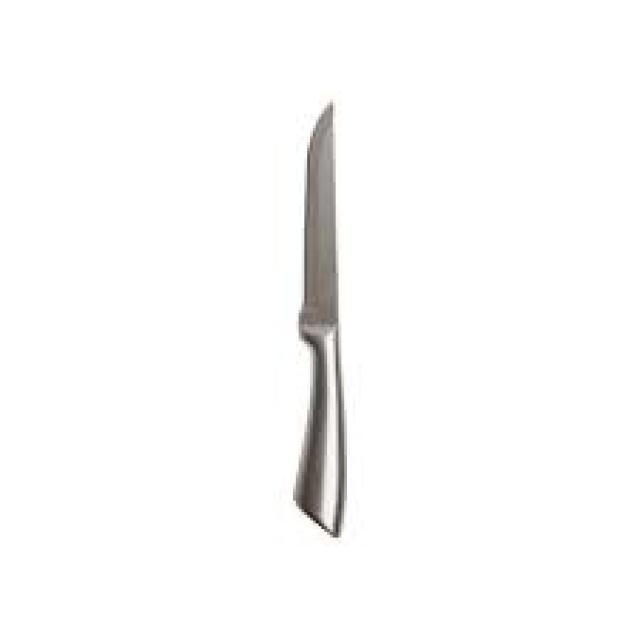Knife: (290, 97, 344, 534)
